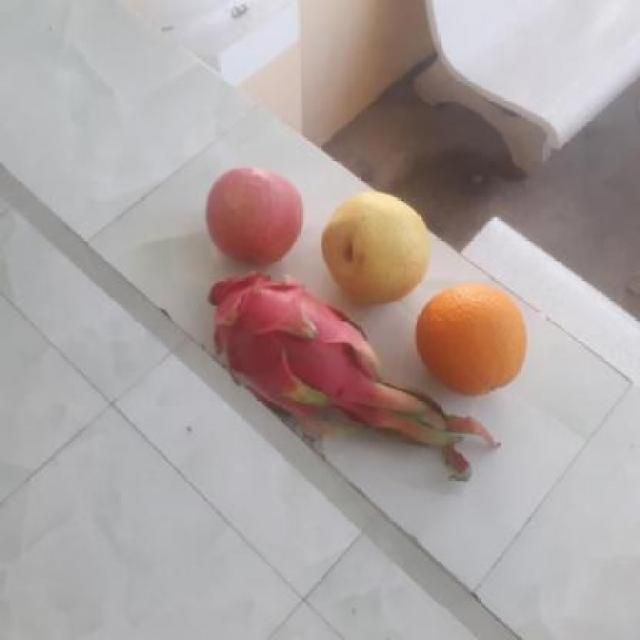apple: (200, 168, 305, 265)
dragon fruit: (203, 275, 366, 407)
oren: (413, 282, 530, 396)
pear: (316, 192, 435, 303)
